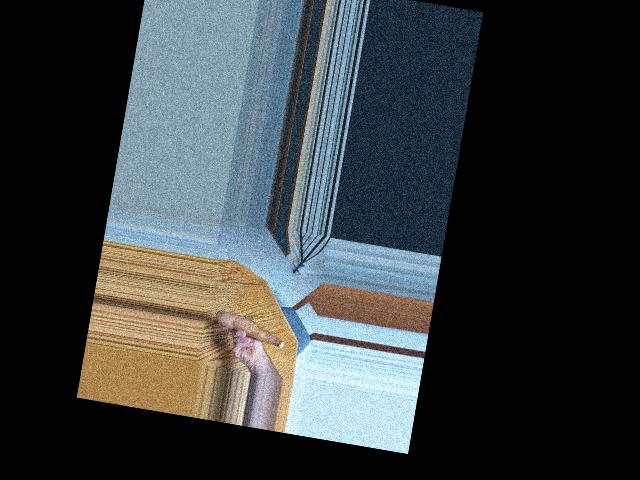sweet_potato: (212, 307, 288, 351)
